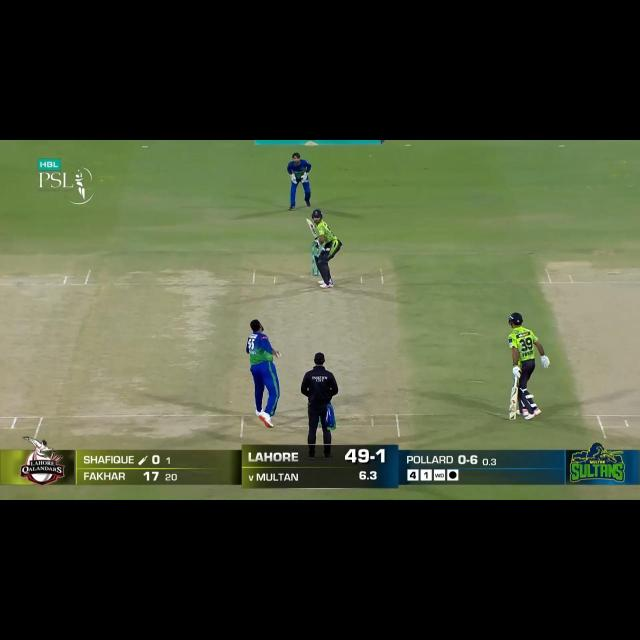bat: (507, 388, 519, 422), (304, 218, 320, 237)
toe: (508, 412, 516, 421), (304, 218, 312, 225)
